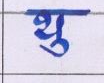u_matra: (40, 39, 71, 57)
